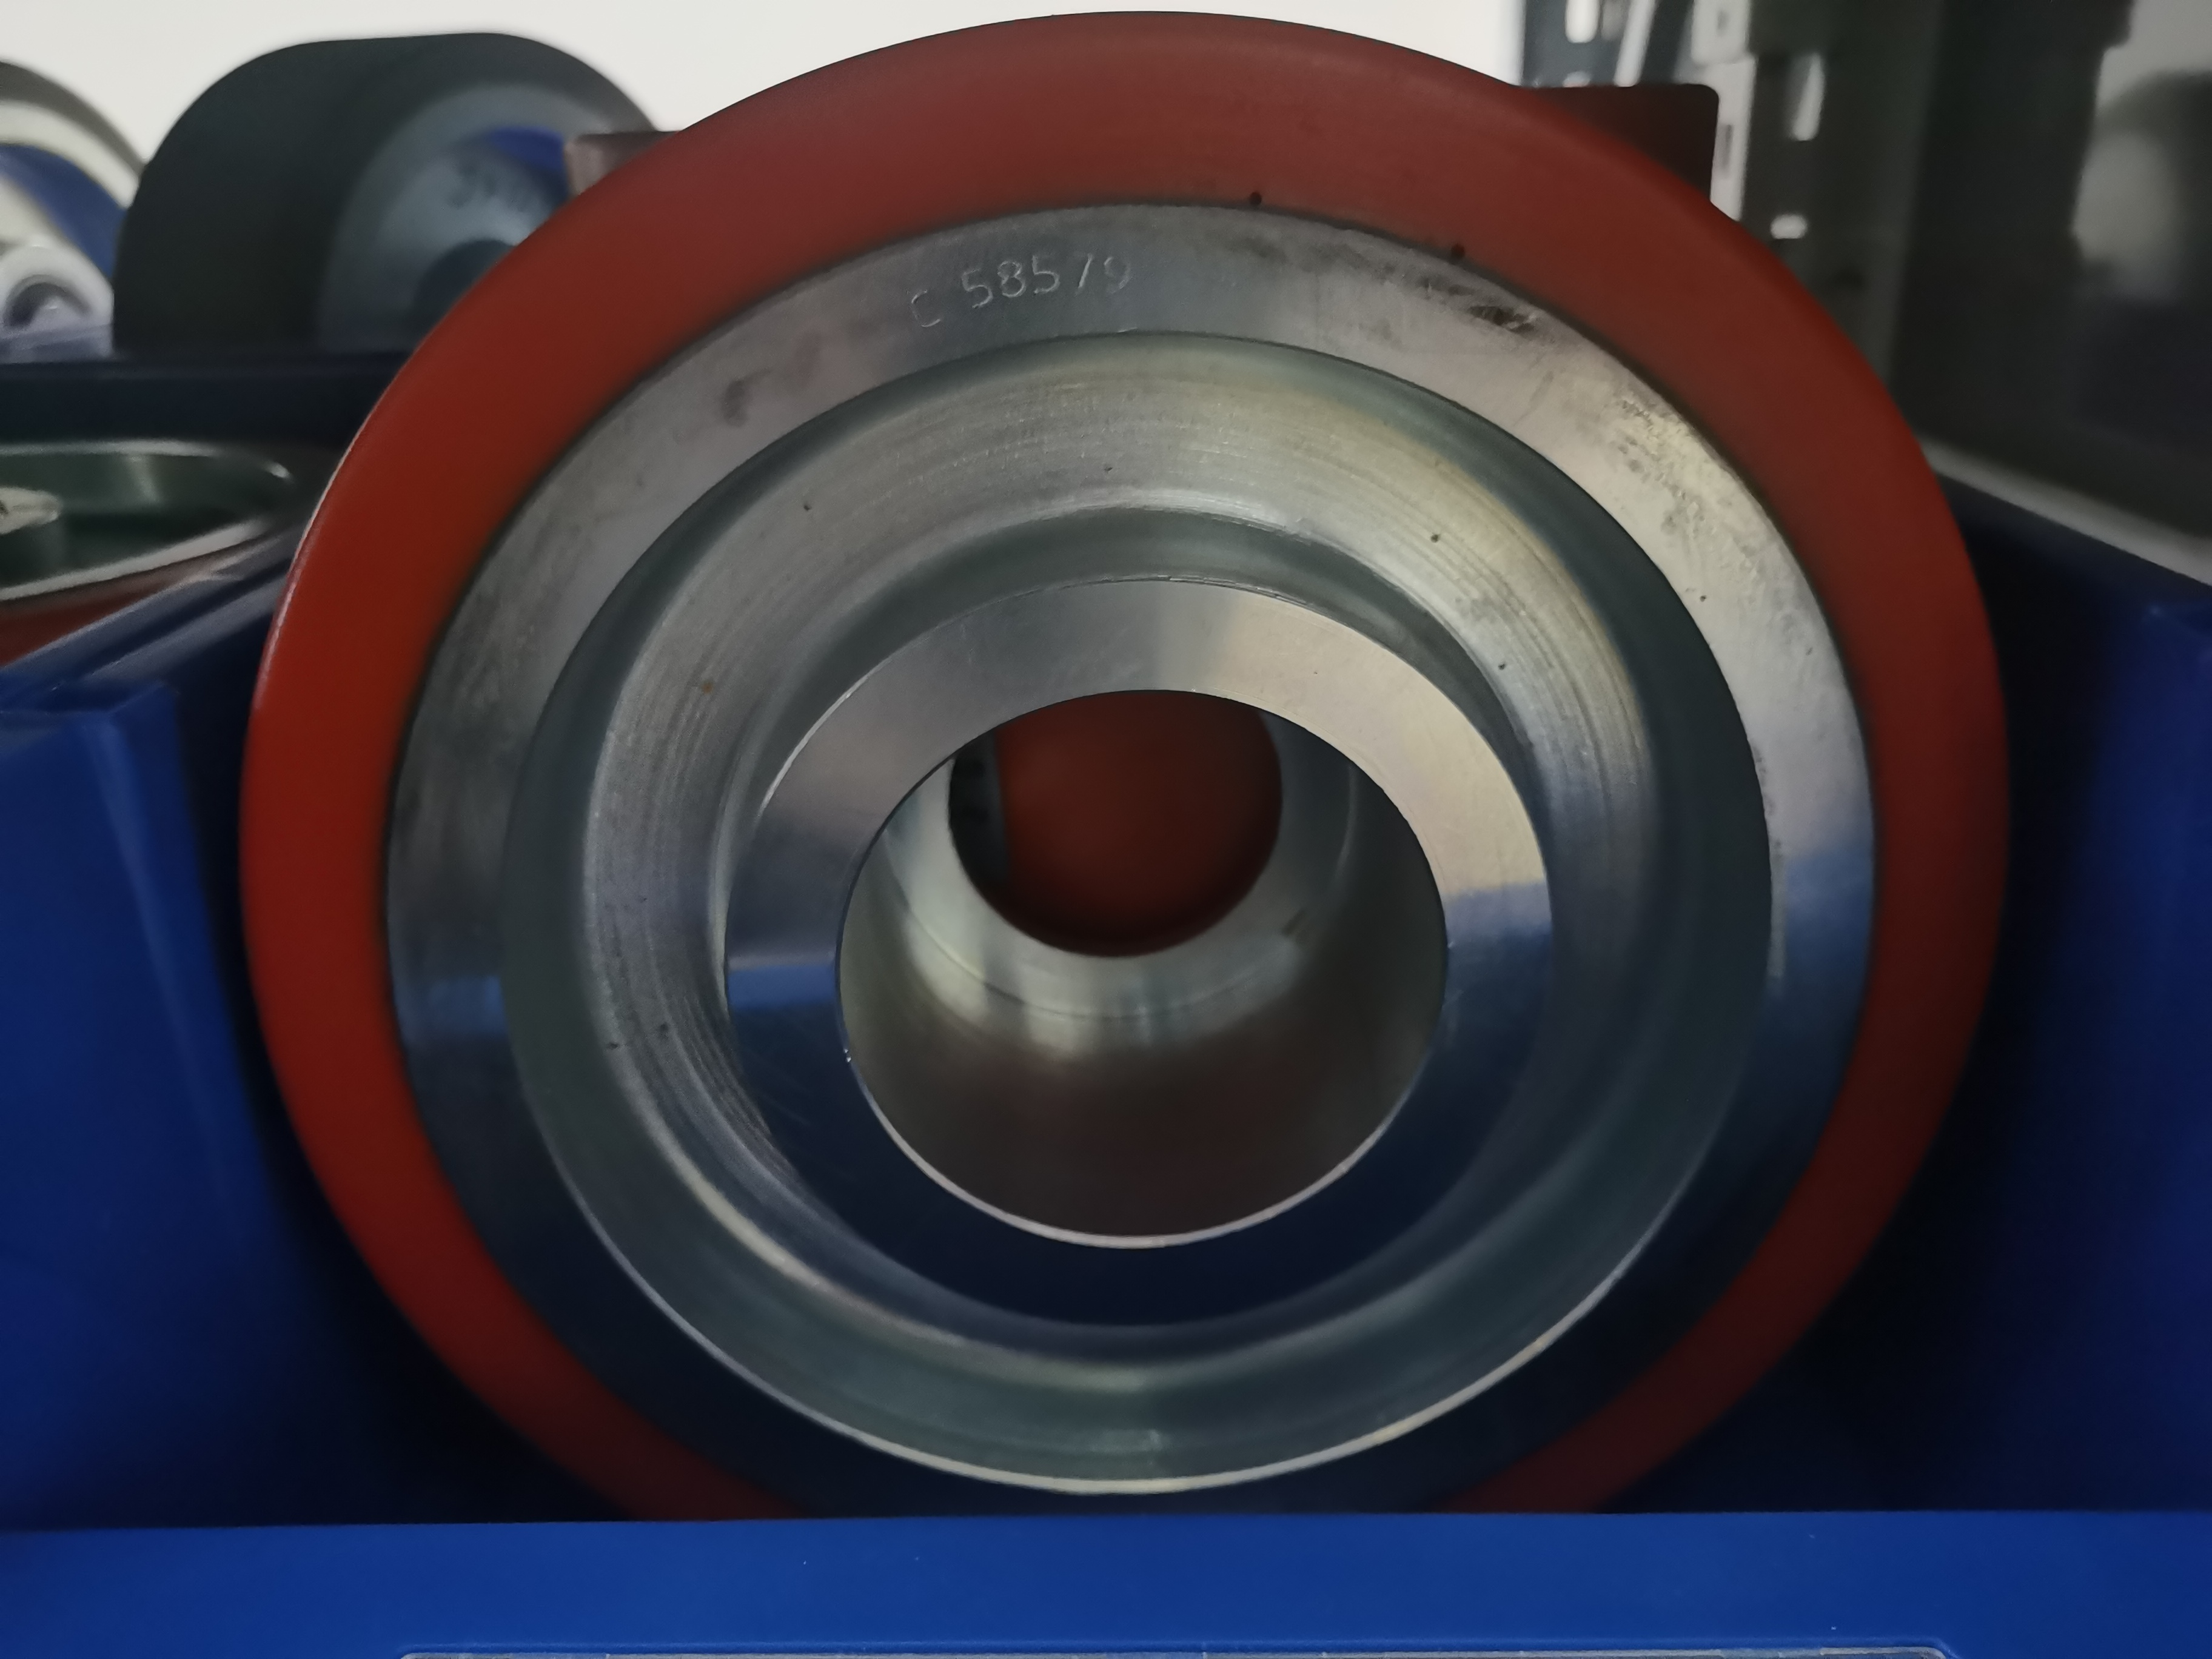good_wheel: (280, 24, 2003, 1476)
